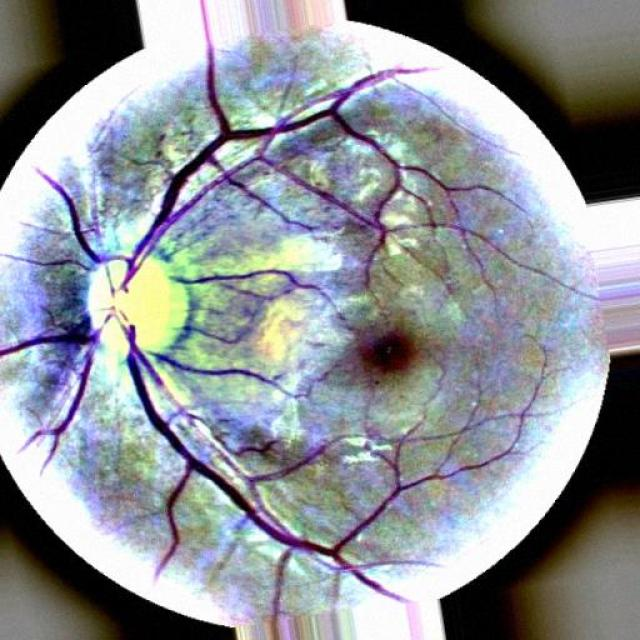Macula: (359, 331, 418, 372)
Nerves: (0, 305, 508, 602), (35, 0, 455, 298), (161, 358, 298, 402), (0, 252, 90, 271)
Optic Disk: (91, 260, 188, 359)
